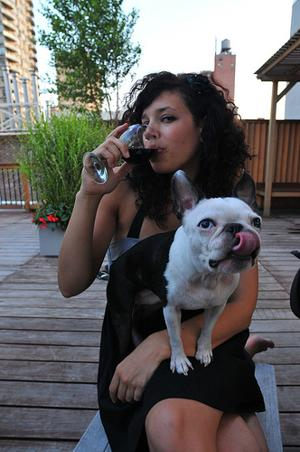person: (56, 74, 269, 452)
